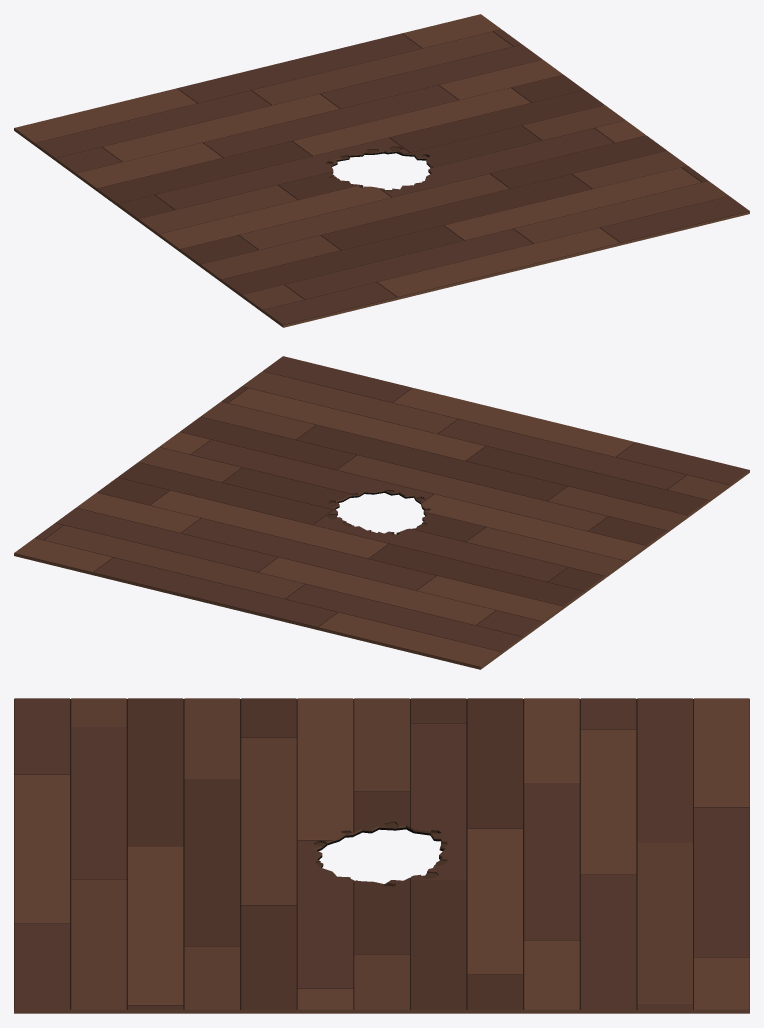
The model's file is floor_hole.obj.
3 renders of one model, top to bottom at view 1: azimuth 30°, elevation 25°; view 2: azimuth 150°, elevation 25°; view 3: azimuth 270°, elevation 25°, orthographic. The views are drawn at different scales.
Parts seen in each view (by area): view 1: floor_hole; view 2: floor_hole; view 3: floor_hole.
Boxes of the visible parts, x1,y1,x2,y2 form: floor_hole: (14, 14, 749, 327); floor_hole: (14, 356, 749, 669); floor_hole: (14, 698, 749, 1013).
Size of the model in its own units: 200 by 1.2 by 200.
Materials: 1 (1 with a texture image).
